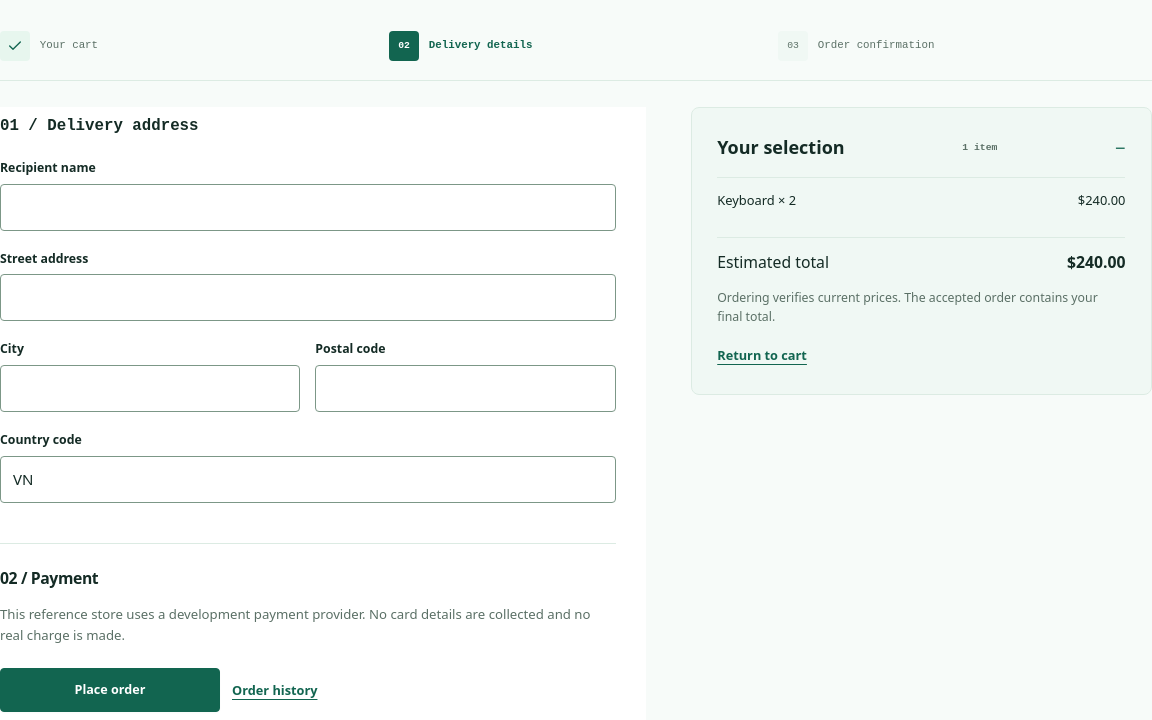
validates delivery fields before making a checkout request
This screenshot has width=1152, height=720.
(page scrolled)
Click the button "Place order".
click(110, 690)  # box 0,668 -> 220,712
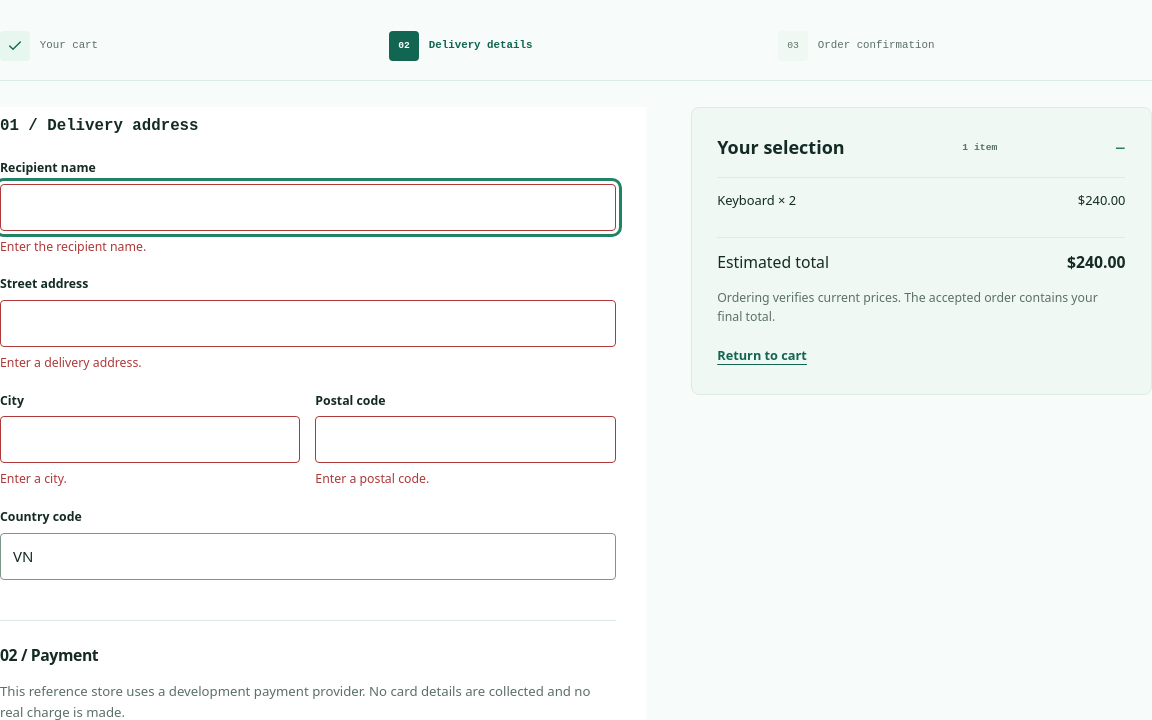
Result: the text "Enter the recipient name." is shown at 0,238 -> 146,255
